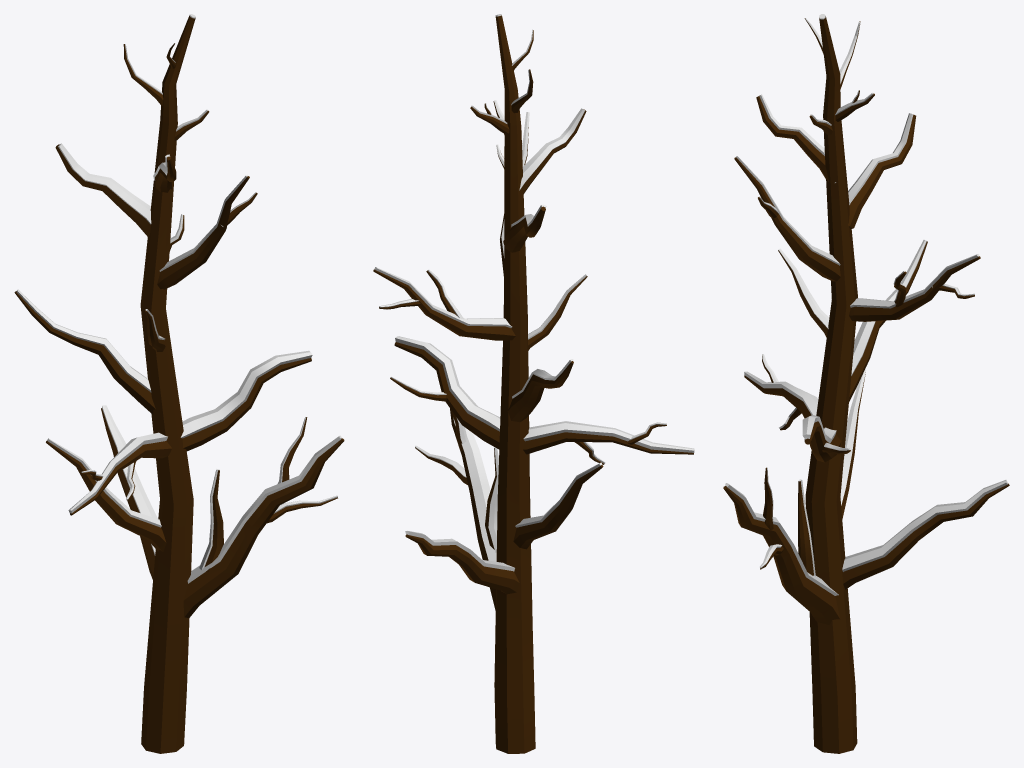
The model's file is Dead_tree_3.fbx.
3 renders of one model, left to right at view 1: azimuth 30°, elevation 25°; view 2: azimuth 150°, elevation 25°; view 3: azimuth 270°, elevation 25°, orthographic. The views are drawn at different scales.
Parts seen in each view (by area): view 1: Dead_tree_3; view 2: Dead_tree_3; view 3: Dead_tree_3.
Part boxes in pixels (x1,y1,x2,y2): Dead_tree_3: (14,14,344,753); Dead_tree_3: (373,14,694,753); Dead_tree_3: (723,14,1009,753).
Bounding box in the file's own units: 189 × 476 × 167.
